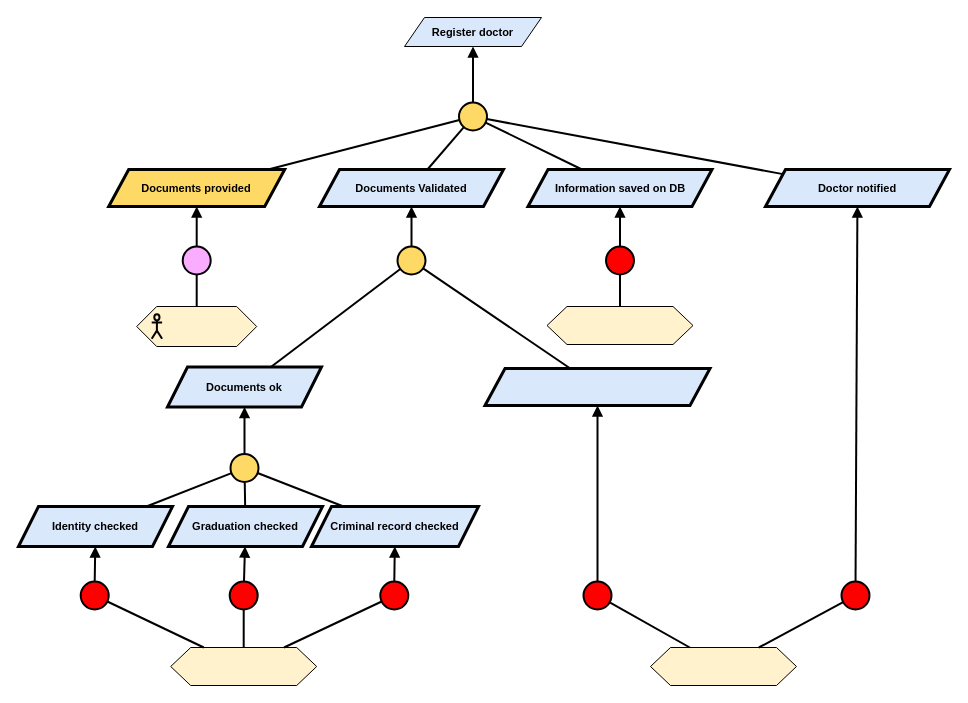
The diagram is 968 pixels wide and 703 high, and some of its shapes have lost their labels. The shapes that lost their labels are listed below. From the top down, each one's centre as x and y in pixels, then its label:
At point 196,326: "Doctor".
At point 619,325: "Doctor controller".
At point 597,386: "Doctor notified if documents not ok".
At point 243,666: "Validation controller".
At point 723,666: "Message controller".
